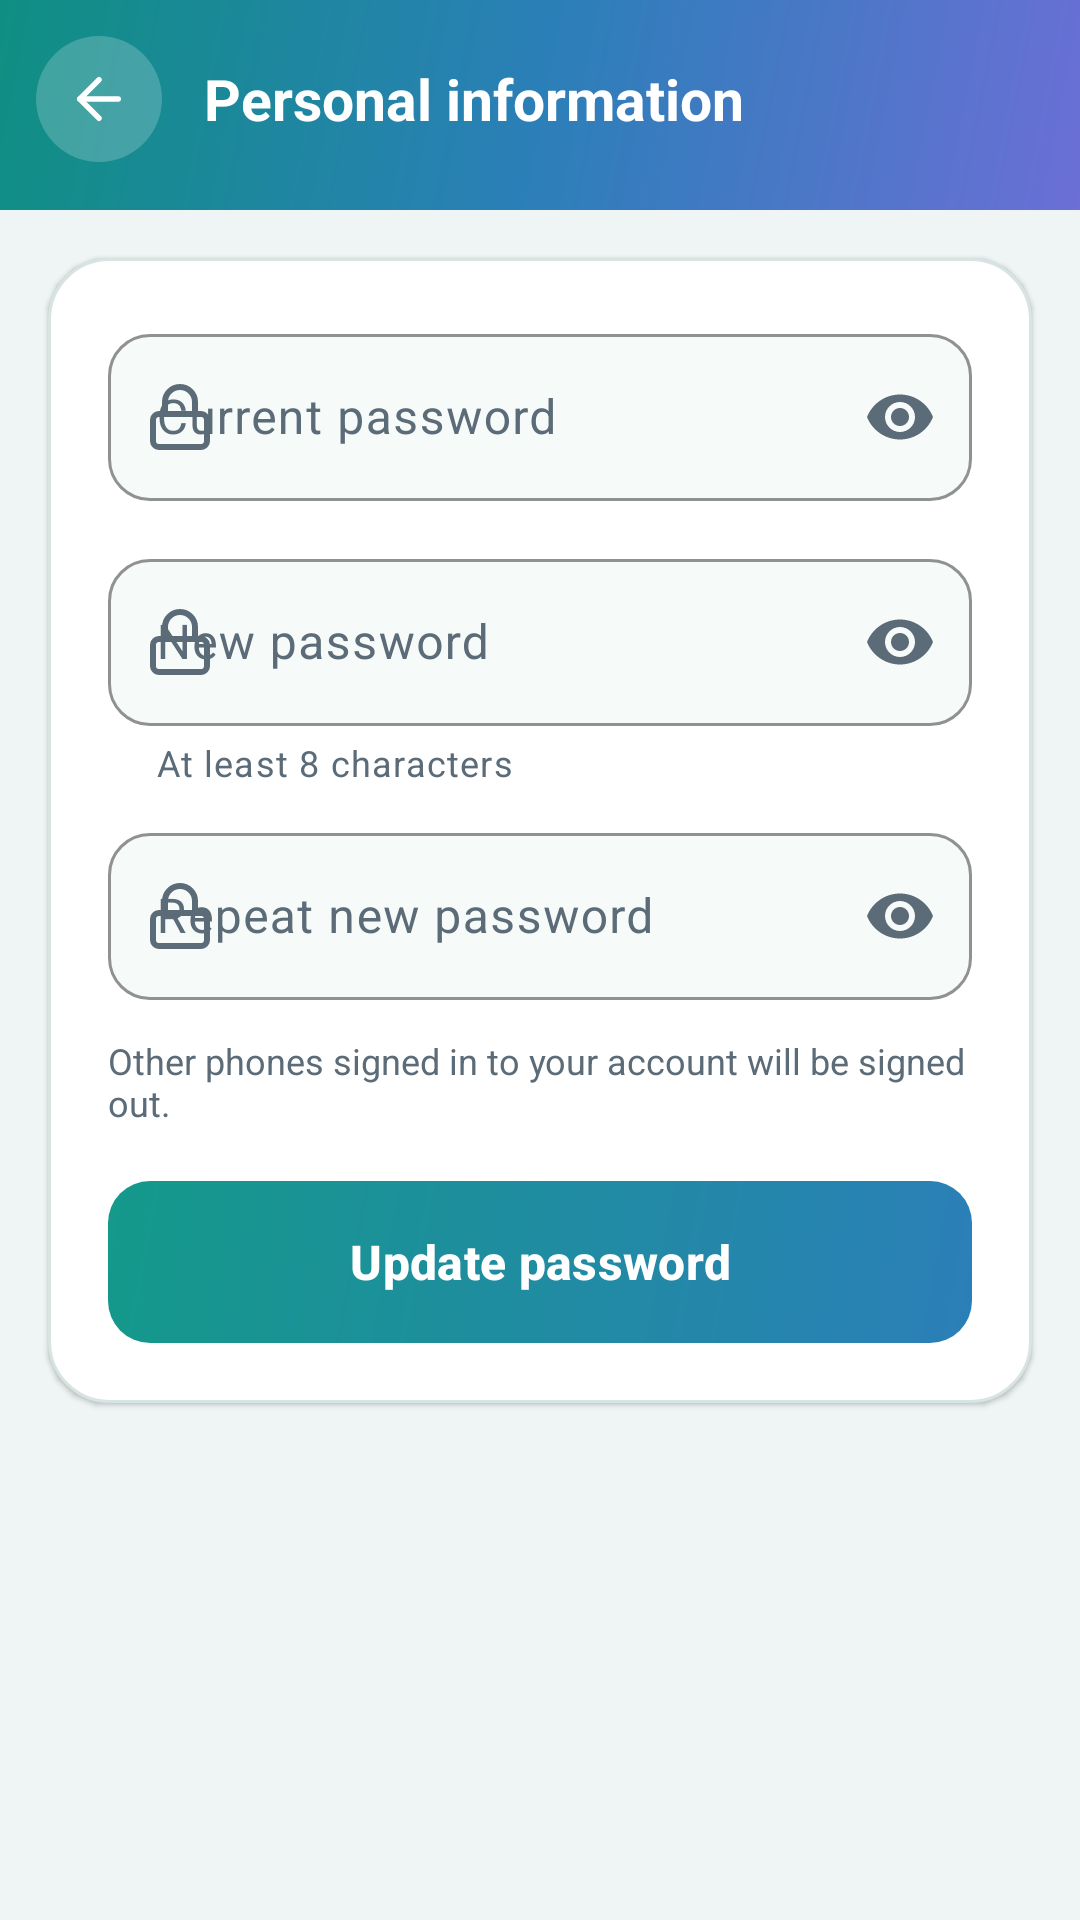

Icon click points for this 1080px x 1920px phone screenshot, format (x=x, y=y):
back: (x=99, y=99)
